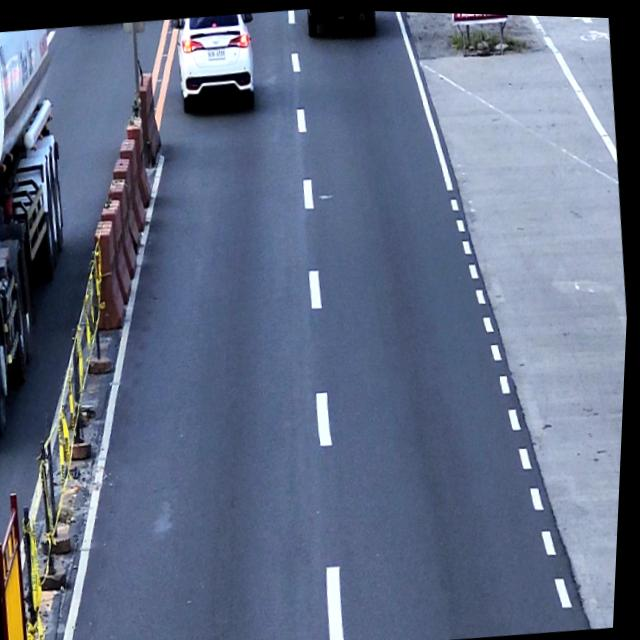Car: (167, 9, 262, 113)
License-Plate: (206, 44, 227, 59)
Truck: (0, 26, 96, 437)
